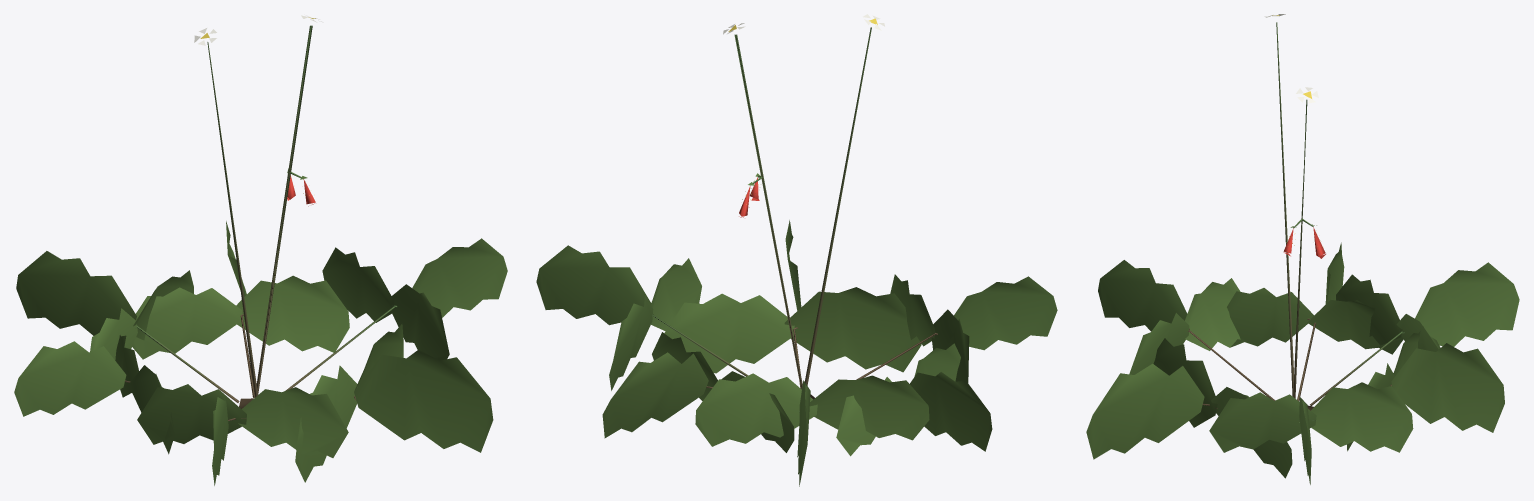
Rendered from WildStrawberry_lod2.glb.
The picture shows the model from 3 angles, left to right: view 1: azimuth 30°, elevation 25°; view 2: azimuth 150°, elevation 25°; view 3: azimuth 270°, elevation 25°; orthographic projection. The views are drawn at different scales.
Parts seen in each view (by area): view 1: Plant_LOD2; view 2: Plant_LOD2; view 3: Plant_LOD2.
Boxes of the visible parts, bbox=[...] form: Plant_LOD2: bbox=[14, 15, 507, 485]; Plant_LOD2: bbox=[536, 14, 1057, 486]; Plant_LOD2: bbox=[1086, 14, 1519, 484].
Size of the model in its own units: 0.2987 by 0.2473 by 0.252.
